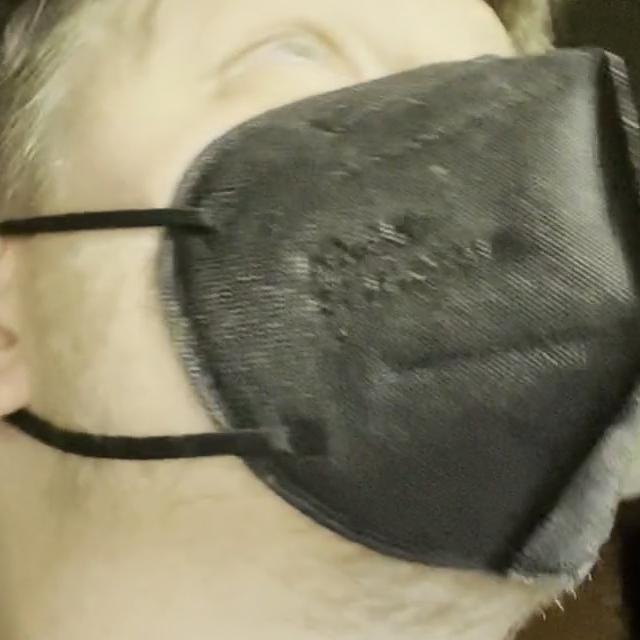Mask: (0, 45, 640, 593)
Person: (0, 0, 640, 640)
